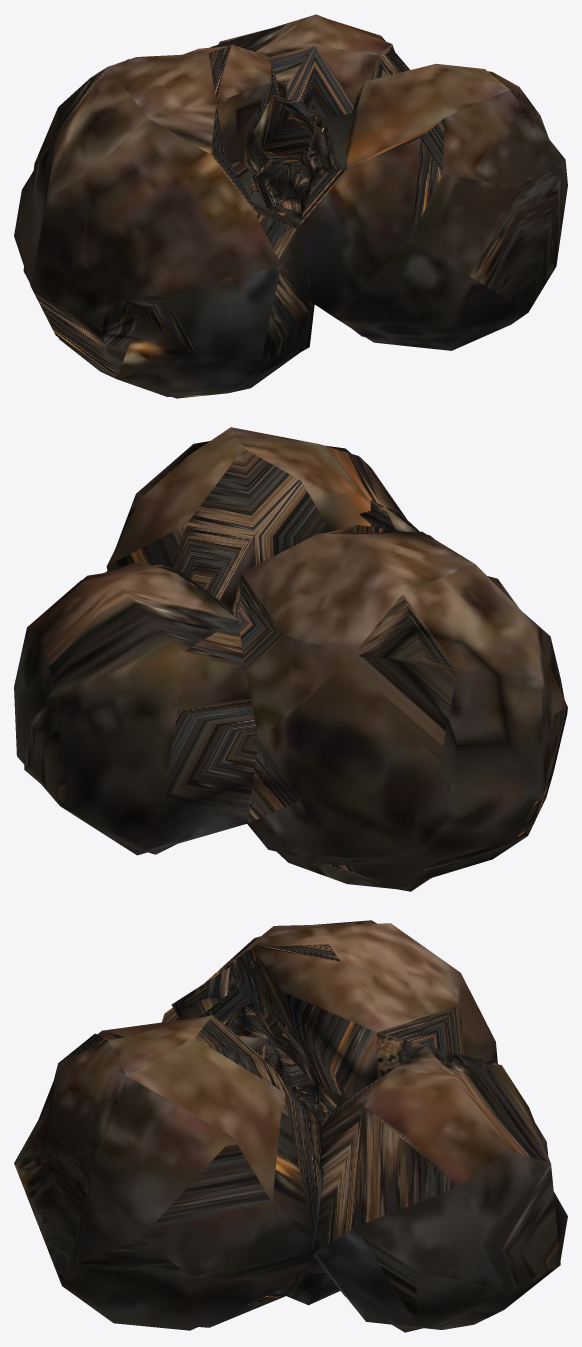
The model's file is na-rock-c-lite.glb.
3 views of the same model, one above another, from view 1: azimuth 30°, elevation 25°; view 2: azimuth 150°, elevation 25°; view 3: azimuth 270°, elevation 25° (orthographic). The views are drawn at different scales.
Visible parts, largest first — view 1: geometry_0; view 2: geometry_0; view 3: geometry_0.
Boxes of the visible parts, x1,y1,x2,y2 form: geometry_0: (14, 14, 567, 398); geometry_0: (14, 427, 567, 891); geometry_0: (14, 920, 567, 1332).
Bounding box in the file's own units: 0.8599 × 0.5883 × 0.844.
1 material, 1 textured.
